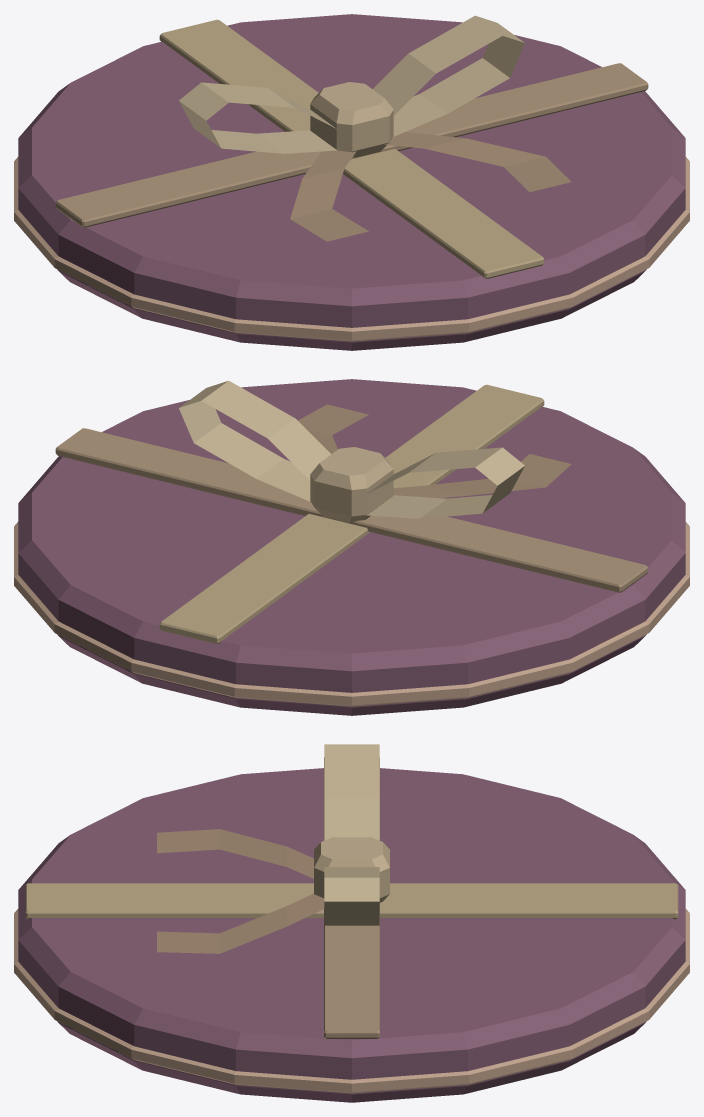
File: hat_box_lid.glb
The picture shows the model from 3 angles, top to bottom: view 1: azimuth 30°, elevation 25°; view 2: azimuth 150°, elevation 25°; view 3: azimuth 270°, elevation 25°; orthographic projection.
Parts seen in each view (by area): view 1: hat_box_lid; view 2: hat_box_lid; view 3: hat_box_lid.
Boxes of the visible parts, x1,y1,x2,y2 form: hat_box_lid: (14,14,689,350); hat_box_lid: (14,379,689,715); hat_box_lid: (14,744,689,1102).
Bounding box in the file's own units: 0.634 × 0.157 × 0.6244.
